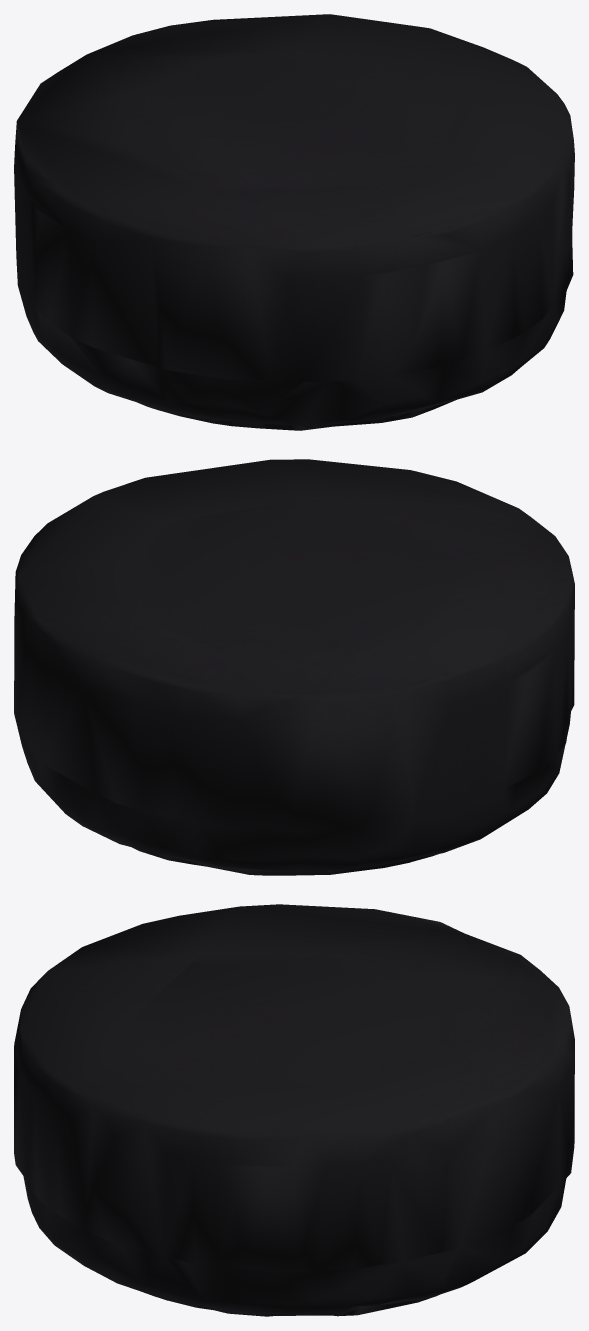
3 renders of one model, top to bottom at view 1: azimuth 30°, elevation 25°; view 2: azimuth 150°, elevation 25°; view 3: azimuth 270°, elevation 25°, orthographic.
Parts seen in each view (by area): view 1: Mesh_0; view 2: Mesh_0; view 3: Mesh_0.
Boxes of the visible parts, left/top/right/bottom form: Mesh_0: left=14, top=14, right=574, bottom=430; Mesh_0: left=14, top=459, right=574, bottom=875; Mesh_0: left=14, top=904, right=574, bottom=1316.
Size of the model in its own units: 4.28 by 2 by 4.28.
Materials: 1 (1 with a texture image).
